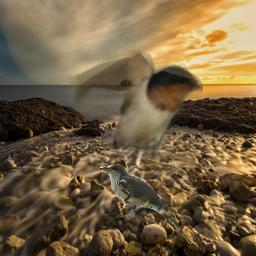Cuckoo: (99, 164, 192, 244)
Swallow: (68, 50, 203, 158)
